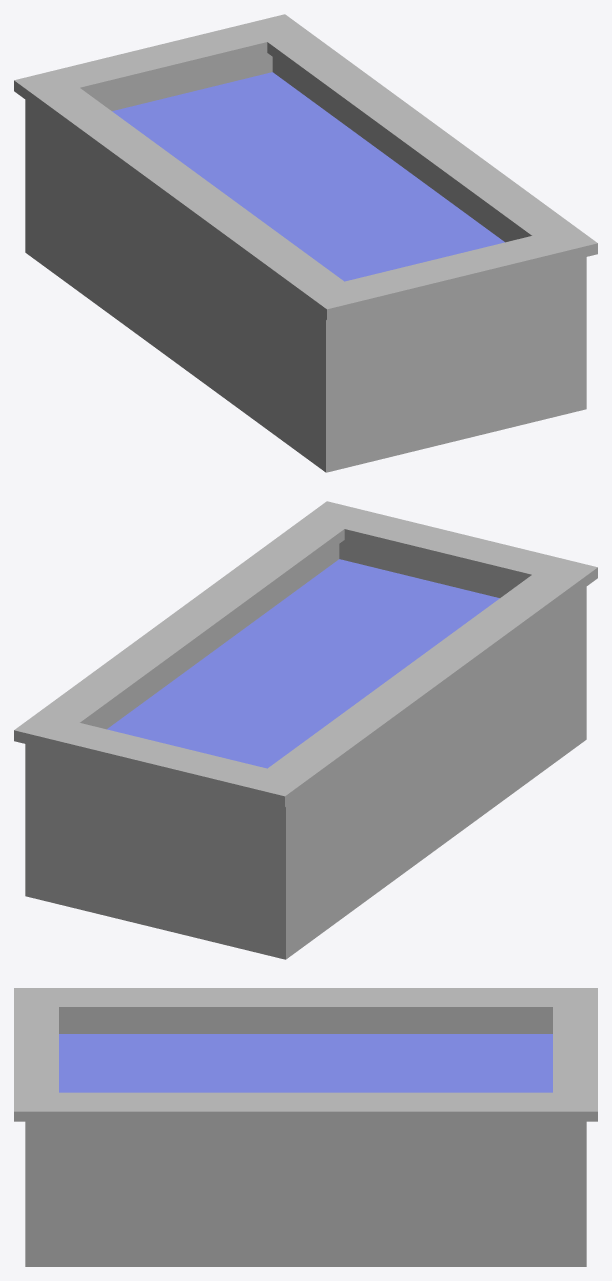
The model's file is wassertrog.glb.
The picture shows the model from 3 angles, top to bottom: view 1: azimuth 30°, elevation 25°; view 2: azimuth 150°, elevation 25°; view 3: azimuth 270°, elevation 25°; orthographic projection. The views are drawn at different scales.
Visible parts, largest first — view 1: wassertrog; view 2: wassertrog; view 3: wassertrog.
Boxes of the visible parts, left/top/right/bottom form: wassertrog: left=14, top=14, right=597, bottom=472; wassertrog: left=14, top=501, right=597, bottom=959; wassertrog: left=14, top=988, right=597, bottom=1266.
Size of the model in its own units: 1.04 by 0.62 by 2.08.
